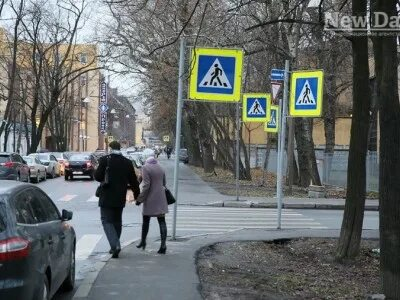crosswalk: (198, 57, 232, 92), (293, 77, 317, 107), (247, 98, 266, 118)
